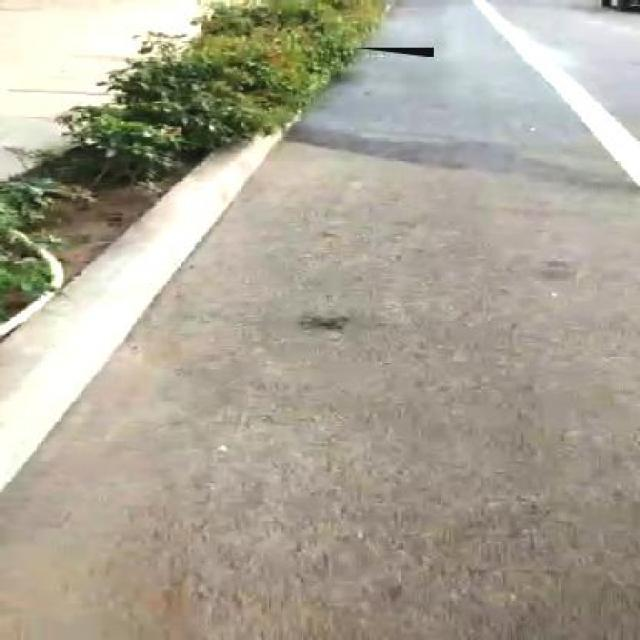Manhole: (354, 48, 434, 57)
Pothole: (298, 312, 355, 338), (538, 270, 578, 286), (540, 258, 574, 270)
